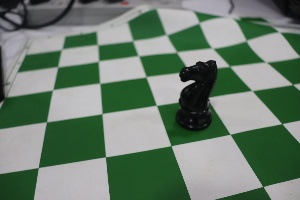black_horse: (168, 40, 223, 139)
